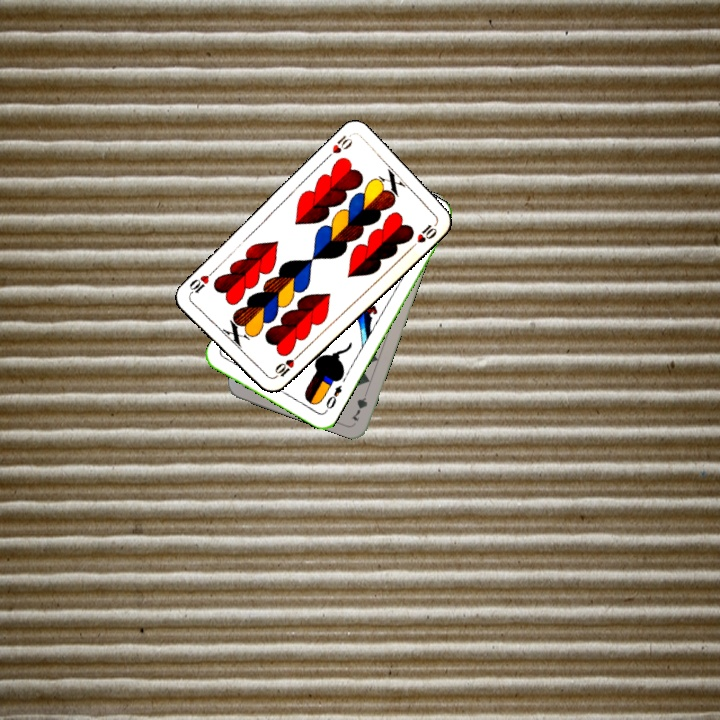EO: (322, 381, 344, 412)
G7: (347, 385, 371, 424)
H10: (321, 131, 355, 163), (270, 350, 303, 381)
